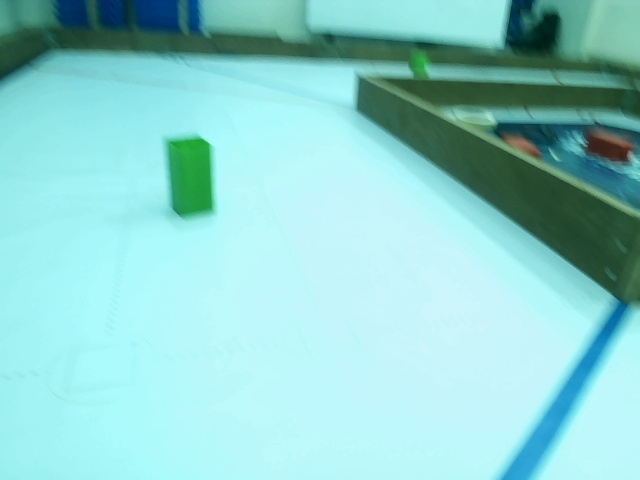green: (166, 137, 217, 214)
